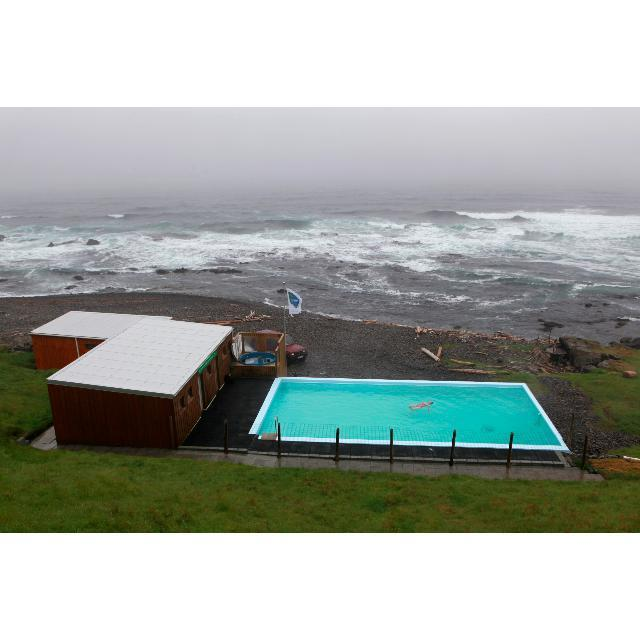human: (410, 398, 435, 416)
